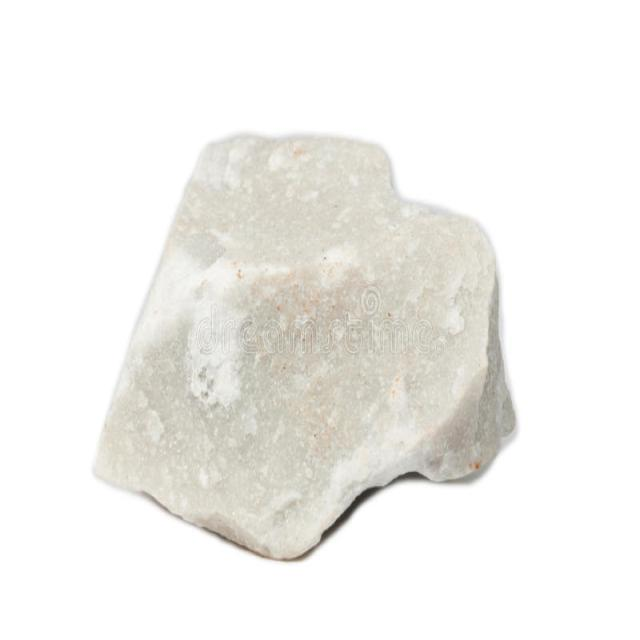Sedimentary: (96, 112, 535, 563)
